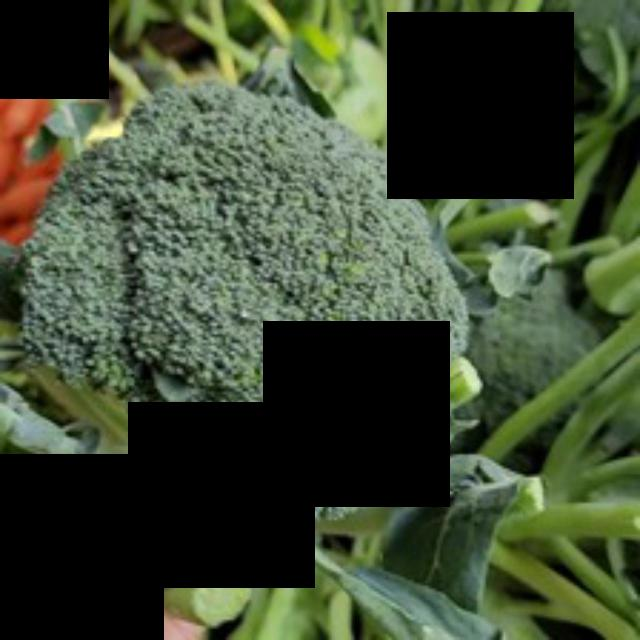broccoli: (21, 69, 468, 544)
